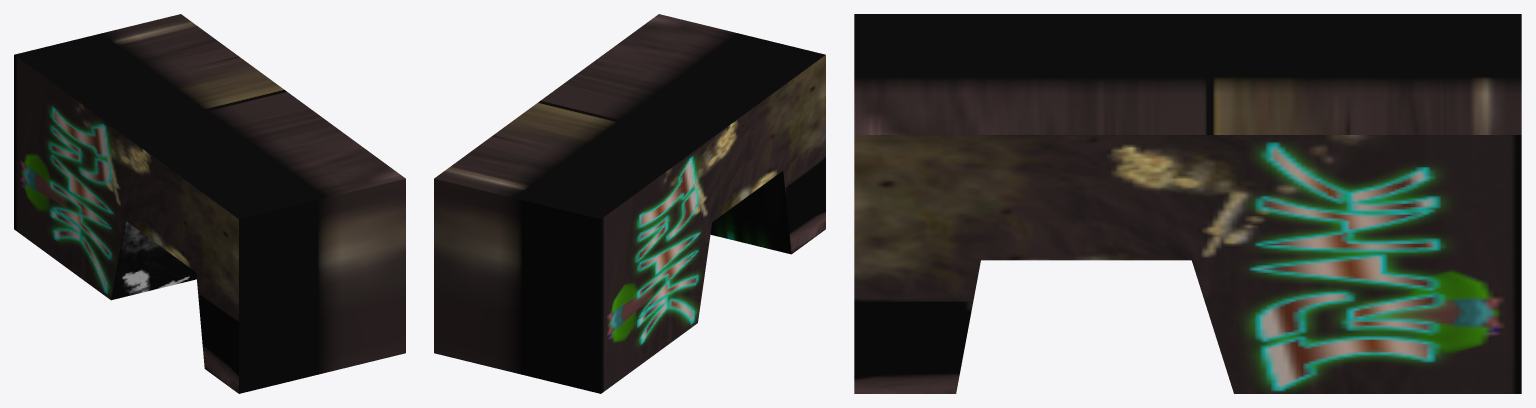
The model's file is trankgame_wtf.obj.
The picture shows the model from 3 angles, left to right: view 1: azimuth 30°, elevation 25°; view 2: azimuth 150°, elevation 25°; view 3: azimuth 270°, elevation 25°; orthographic projection. The views are drawn at different scales.
Parts seen in each view (by area): view 1: group2; view 2: group2; view 3: group2.
Boxes of the visible parts, <box> form: group2: <box>14,14,405,393</box>; group2: <box>434,14,825,393</box>; group2: <box>854,14,1521,393</box>.
Size of the model in its own units: 283 by 283 by 660.
